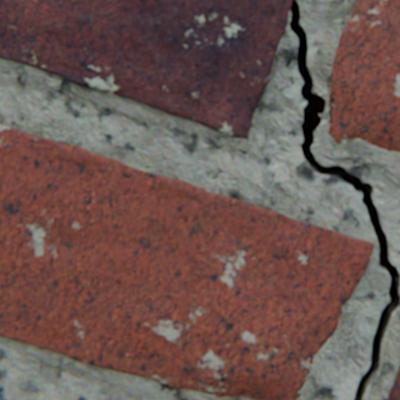brick: (0, 124, 373, 399), (0, 0, 293, 137), (328, 0, 399, 151), (387, 366, 399, 399)
crack: (289, 0, 399, 399)
